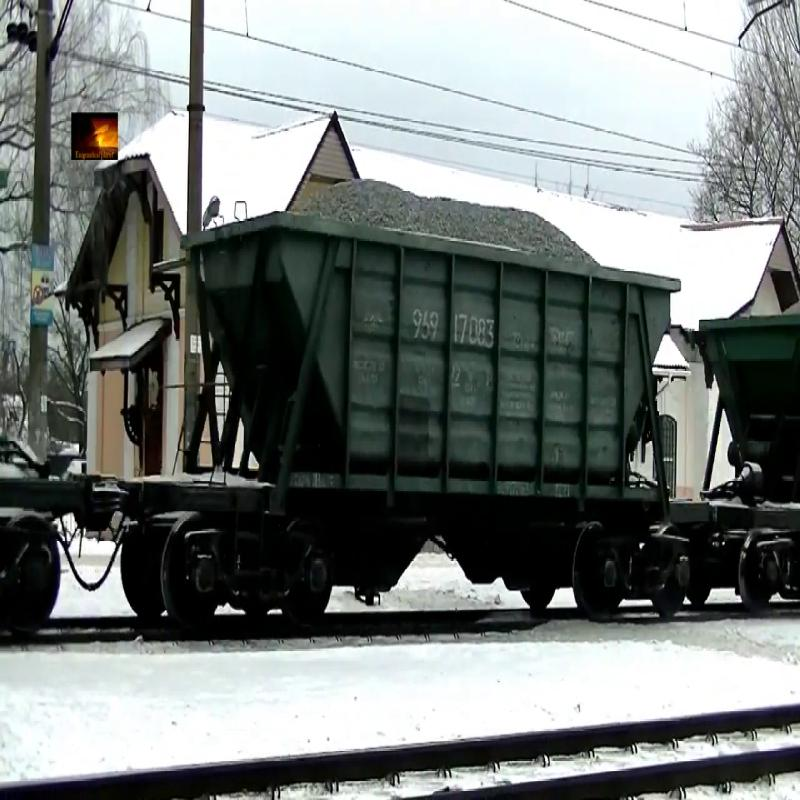train: (187, 167, 679, 624)
